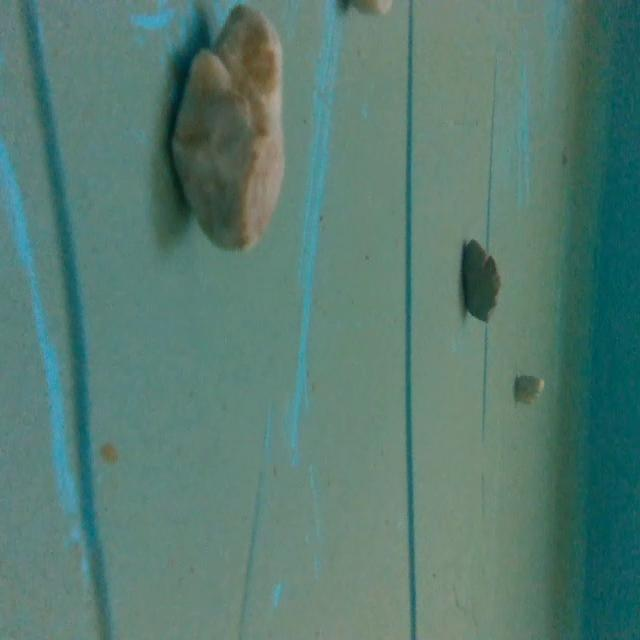rock: (162, 0, 293, 263), (453, 237, 504, 326)
